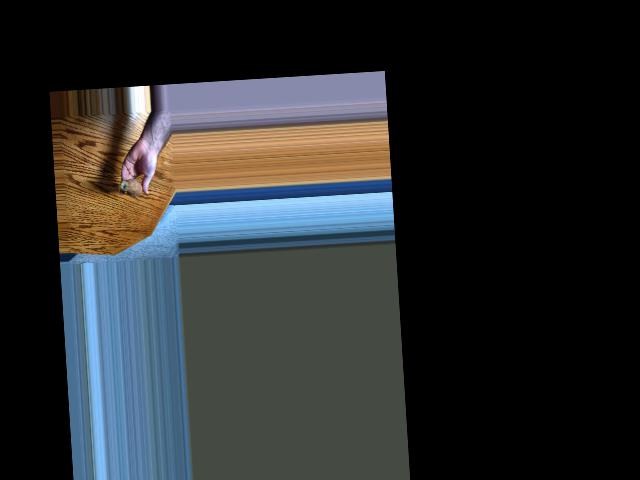sweet_potato: (120, 178, 146, 204)
